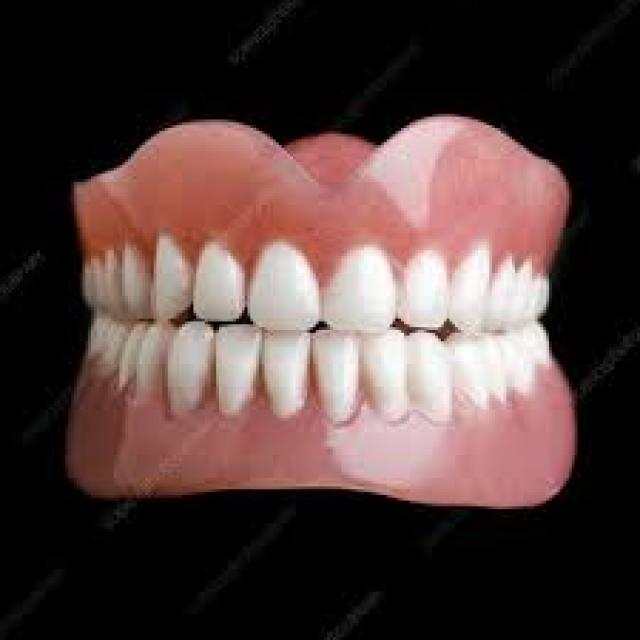tooth: (327, 242, 398, 336), (444, 332, 554, 390), (248, 242, 318, 330), (398, 327, 455, 430), (188, 239, 247, 321), (356, 327, 406, 421), (168, 324, 216, 412), (262, 330, 310, 415), (498, 250, 549, 327), (398, 253, 449, 327), (71, 253, 128, 316), (307, 333, 347, 421), (86, 322, 136, 392), (452, 247, 490, 333), (227, 322, 259, 418), (159, 230, 188, 316), (139, 321, 165, 401)
